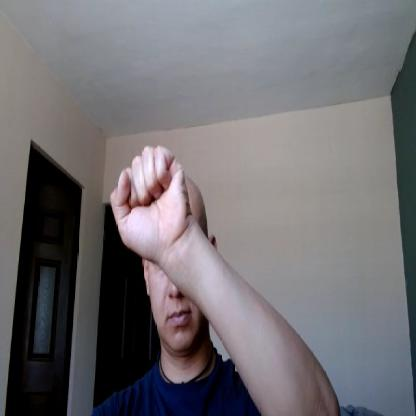S: (109, 144, 191, 260)
